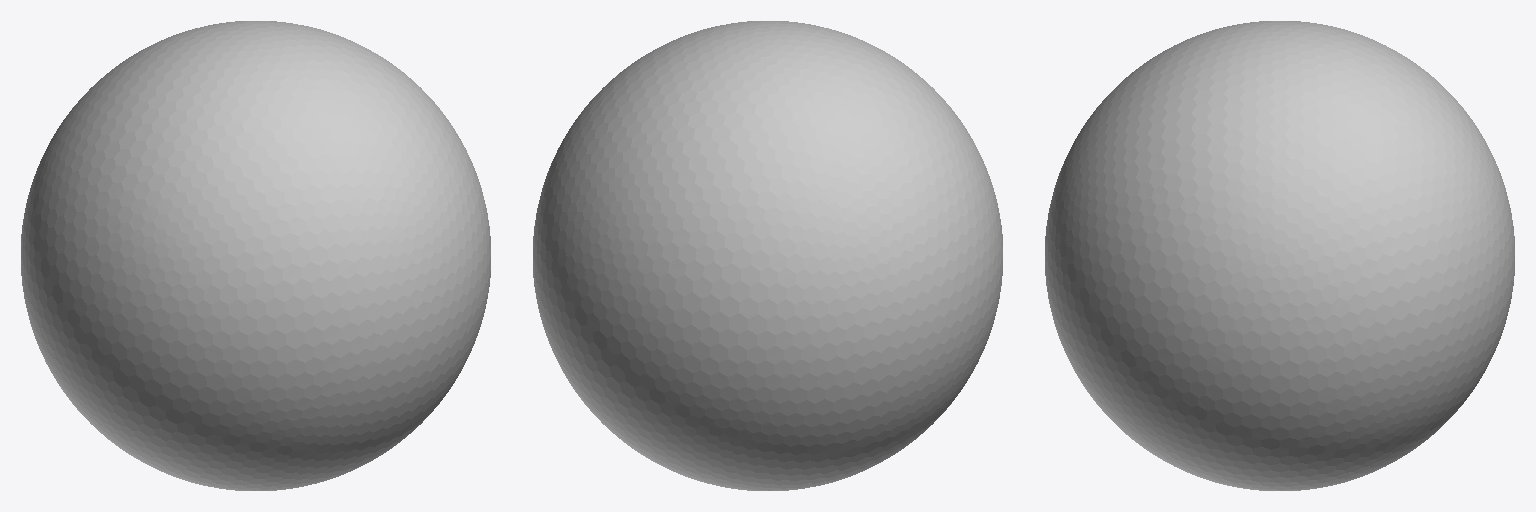
Rendered from planet2.obj.
3 renders of one model, left to right at view 1: azimuth 30°, elevation 25°; view 2: azimuth 150°, elevation 25°; view 3: azimuth 270°, elevation 25°, orthographic.
Visible parts, largest first — view 1: Space_atmosphere_X.001; view 2: Space_atmosphere_X.001; view 3: Space_atmosphere_X.001.
Boxes of the visible parts, x1,y1,x2,y2 form: Space_atmosphere_X.001: [21, 21, 490, 490]; Space_atmosphere_X.001: [533, 21, 1002, 490]; Space_atmosphere_X.001: [1045, 21, 1514, 490].
Size of the model in its own units: 711 by 712 by 711.